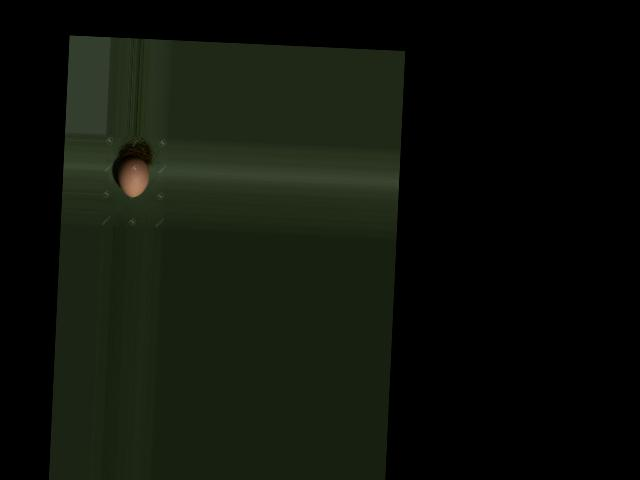egg: (116, 156, 149, 198)
